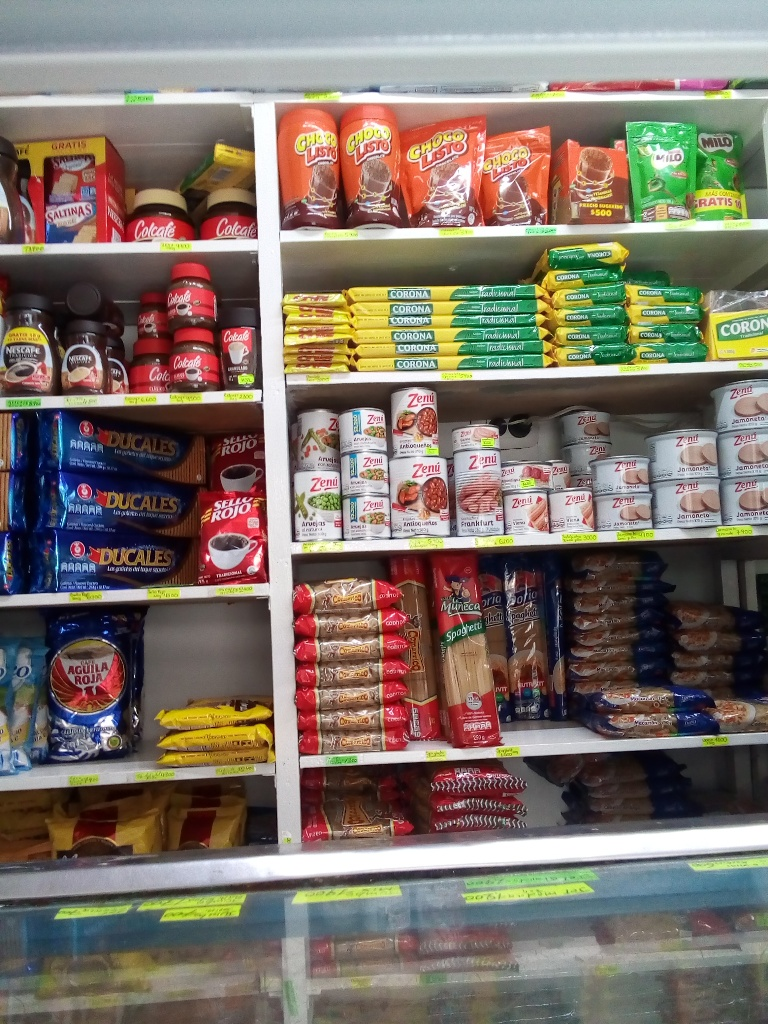COL0170203DYP10000: (627, 116, 694, 222)
